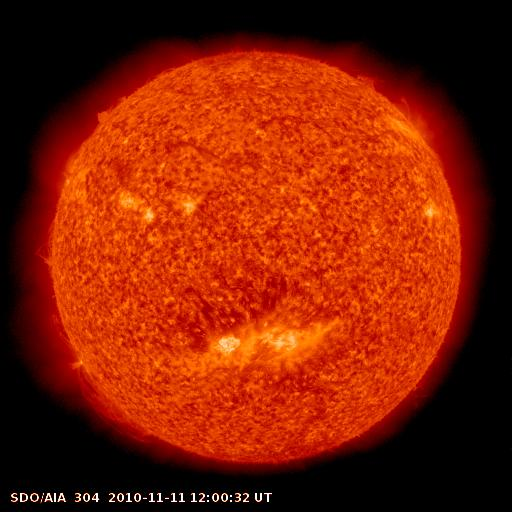prominence: (70, 359, 167, 452), (350, 64, 428, 140), (40, 305, 87, 376), (29, 210, 70, 277), (81, 85, 139, 125)
